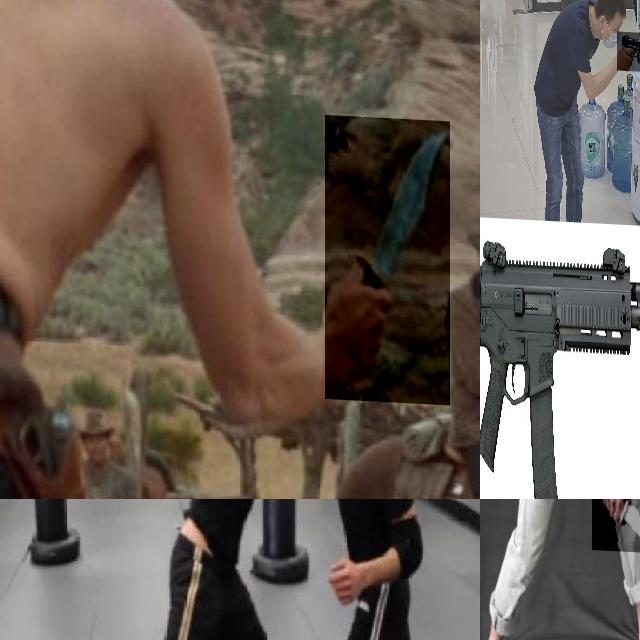-: (325, 111, 450, 400), (592, 499, 640, 550), (276, 499, 333, 532)
gun-knife-thesis - v11 Yolov5 augmented: (480, 225, 640, 499), (617, 28, 640, 69)
